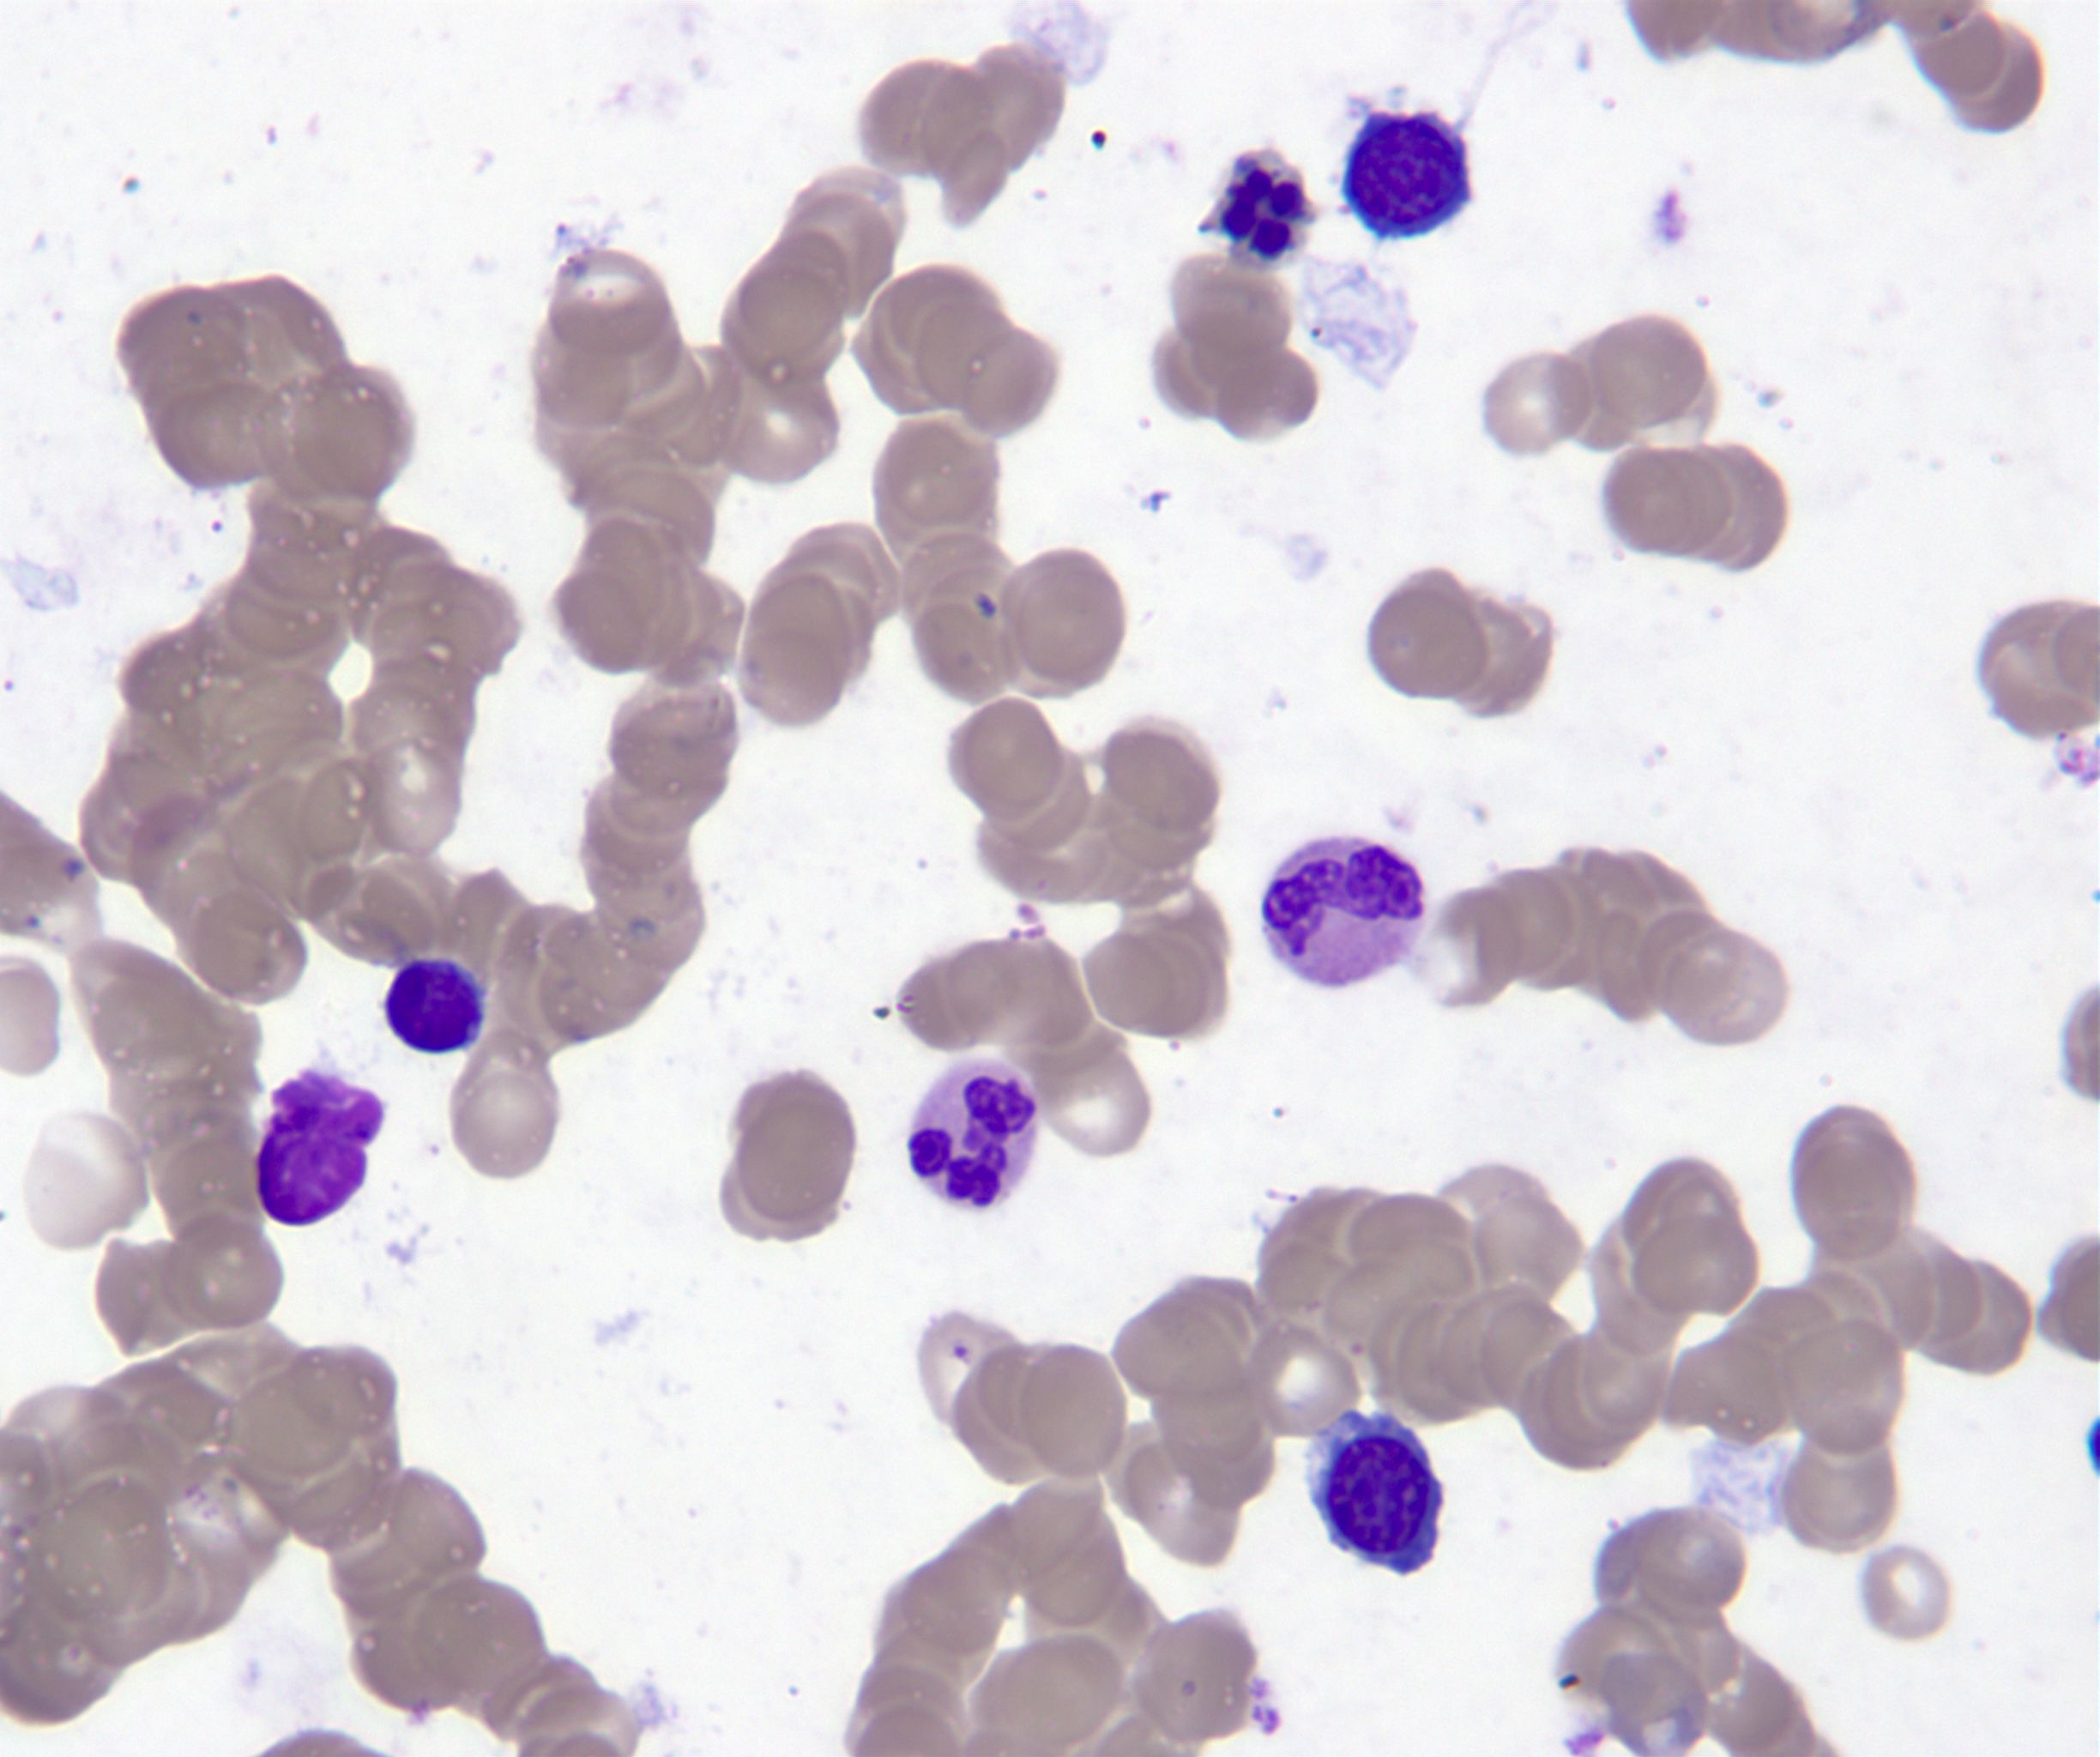23: (1305, 1410, 1442, 1577), (1341, 110, 1472, 241)
24: (1200, 148, 1319, 272)
32: (385, 960, 483, 1054)
6: (1261, 836, 1423, 986), (907, 1057, 1040, 1216)
x: (258, 1068, 384, 1227)
